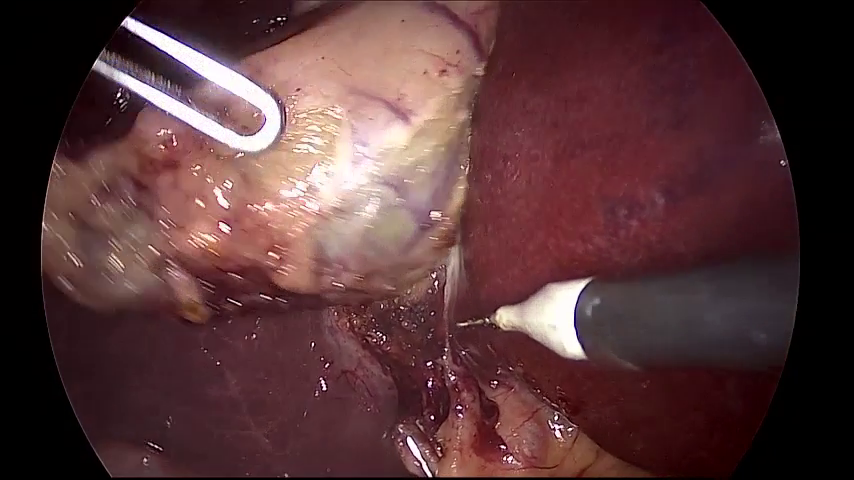grasper: (93, 16, 280, 150)
lhook: (457, 251, 799, 377)
